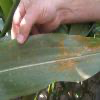Corn rust leaf: (0, 34, 99, 94)
